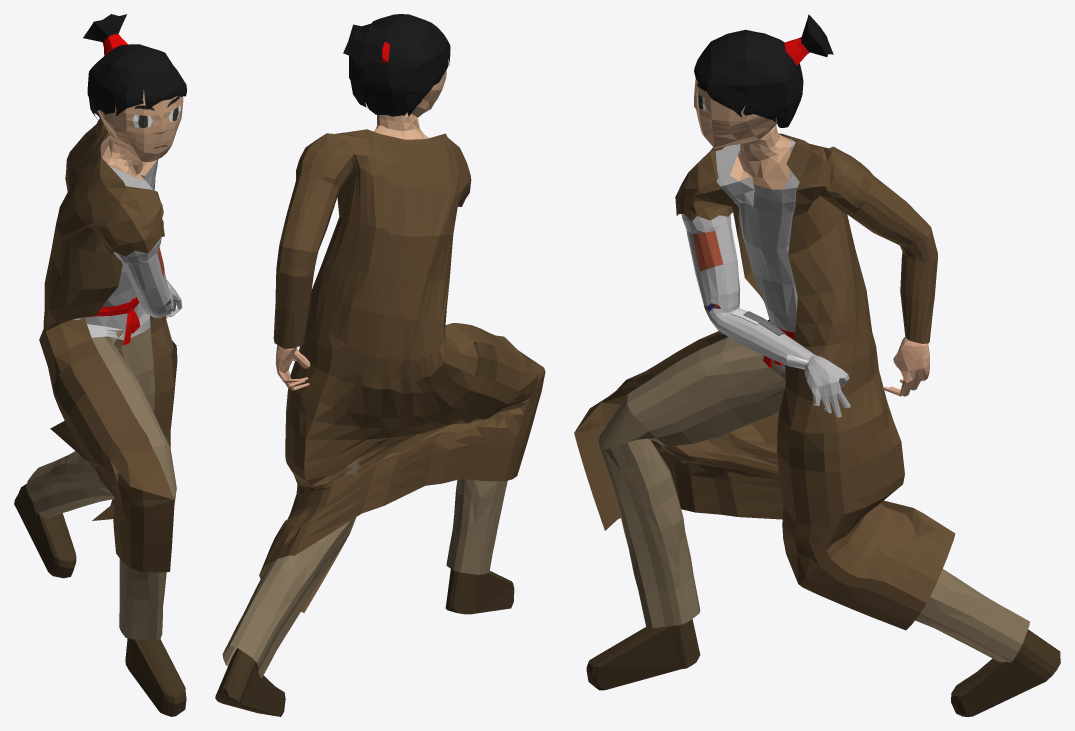
Rendered from OneAnimationTest_000001.obj.
The picture shows the model from 3 angles, left to right: view 1: azimuth 30°, elevation 25°; view 2: azimuth 150°, elevation 25°; view 3: azimuth 270°, elevation 25°; orthographic projection. The views are drawn at different scales.
Parts seen in each view (by area): view 1: Jacket_Cube, Body_Cube.003, Hair_Cube.004; view 2: Jacket_Cube, Body_Cube.003, Hair_Cube.004; view 3: Jacket_Cube, Body_Cube.003, Hair_Cube.004.
Part boxes in pixels (x1,y1,x2,y2): Jacket_Cube: [39, 118, 177, 572]; Body_Cube.003: [14, 90, 186, 716]; Hair_Cube.004: [83, 14, 186, 119]; Jacket_Cube: [259, 129, 545, 612]; Body_Cube.003: [215, 69, 514, 716]; Hair_Cube.004: [343, 14, 450, 116]; Jacket_Cube: [574, 133, 955, 630]; Body_Cube.003: [586, 79, 1060, 716]; Hair_Cube.004: [694, 14, 833, 127].
Size of the model in its own units: 0.9384 by 3.54 by 2.28.
